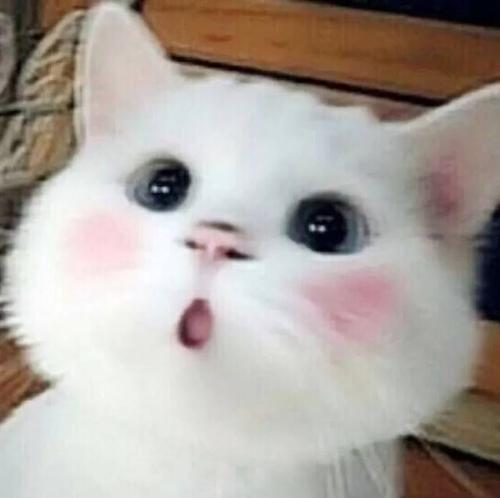cat: (16, 14, 465, 449)
